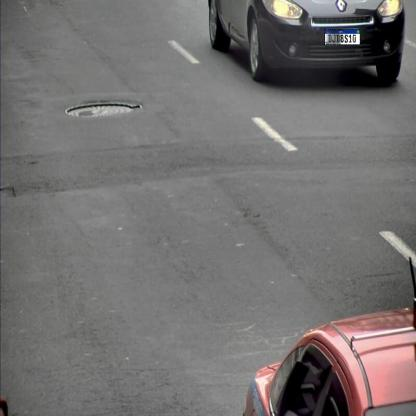PlacaM: (324, 29, 360, 45)
